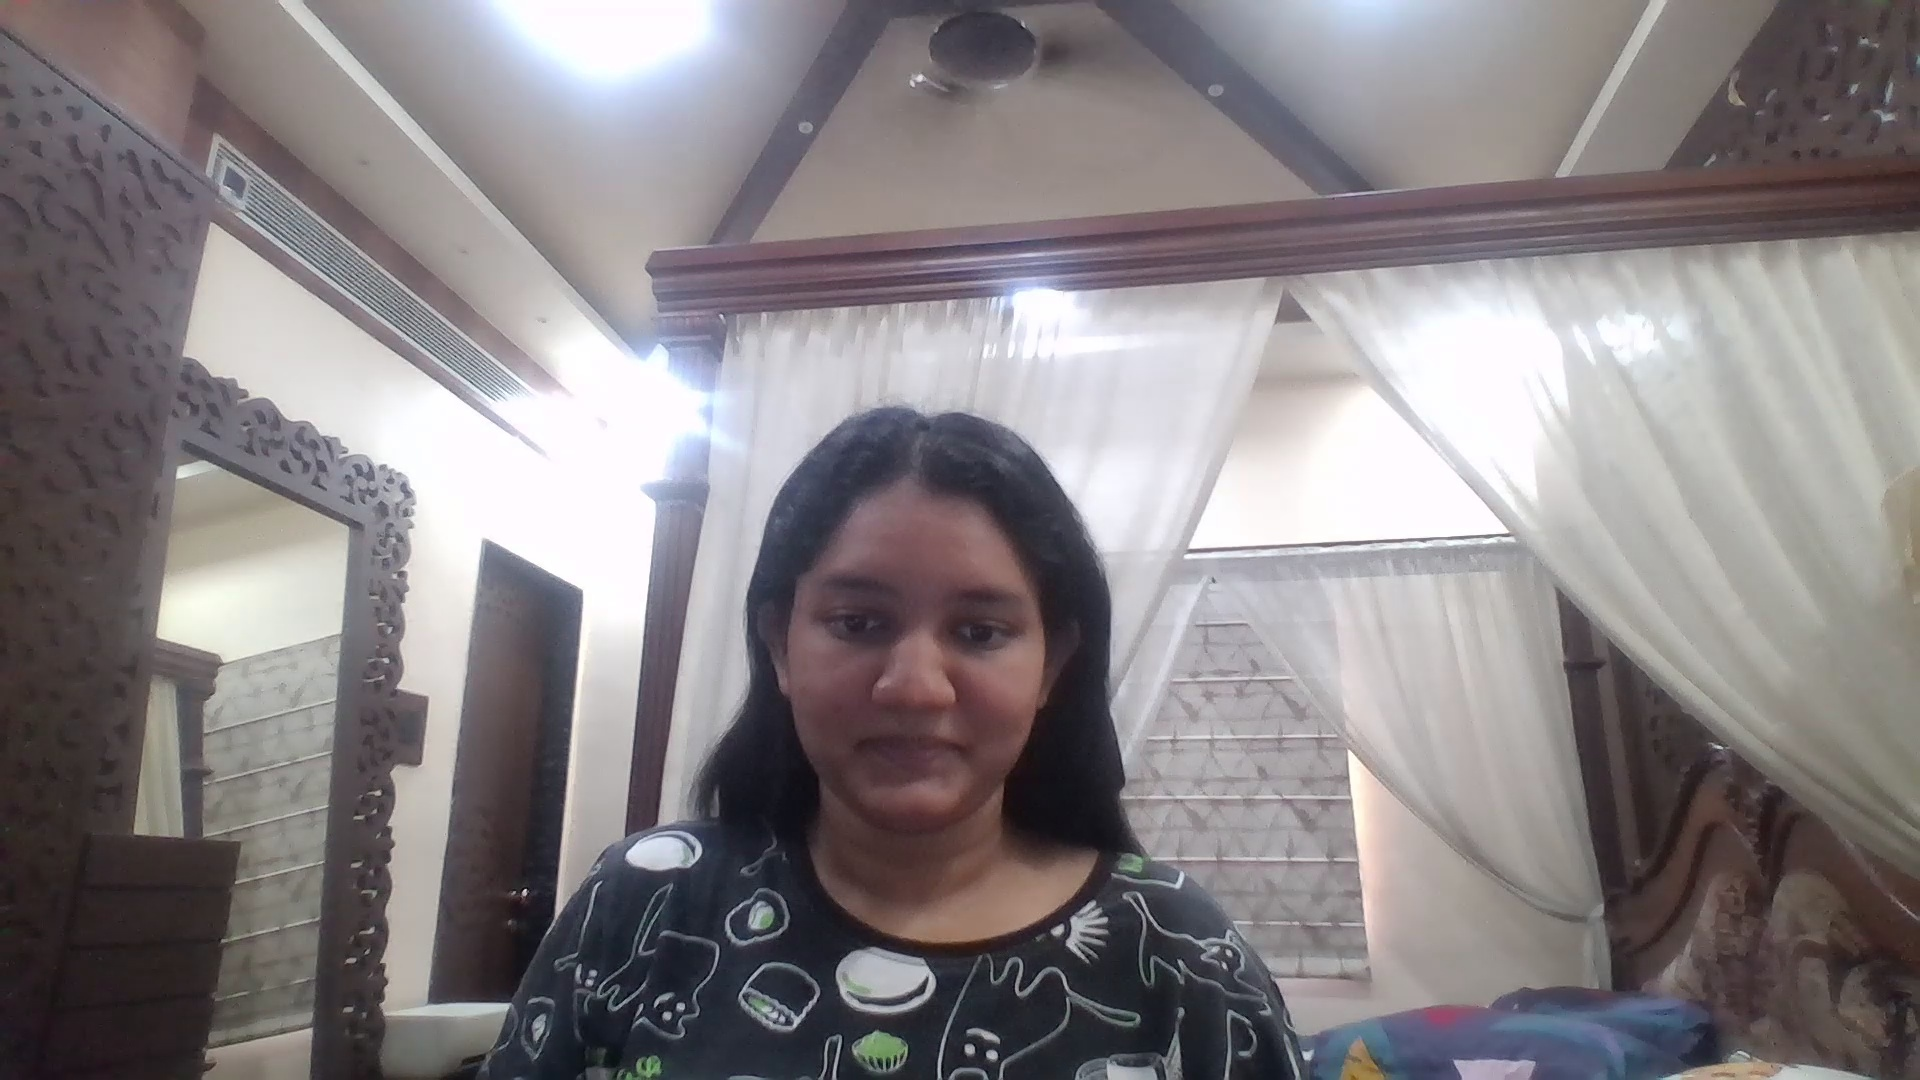No Mask: (798, 689, 1034, 841)
